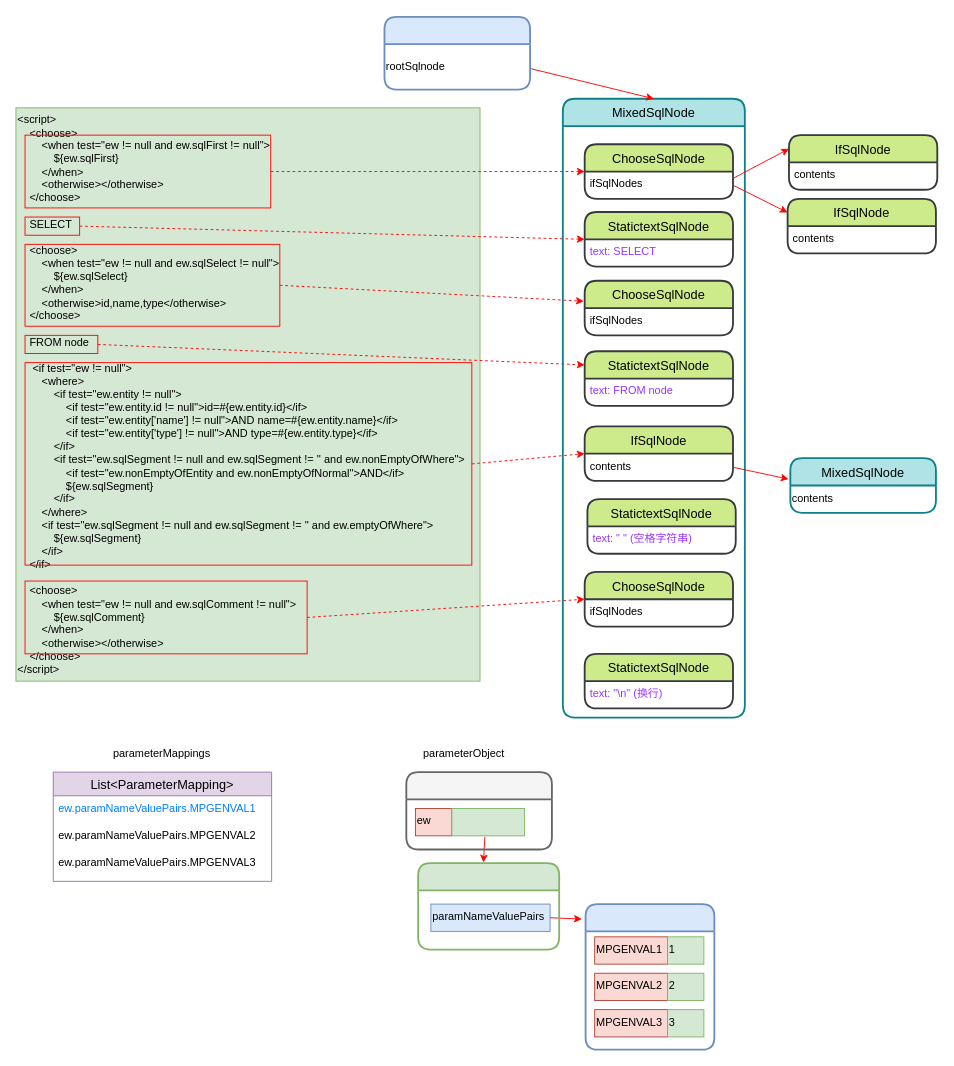
Image size: 954x1066. Some labels were removed from this diagram. The shapes that lost their labels are listed below. From the top down, each one's box as (x1, y1, x2, y2) in pixels, then its label:
(383, 15, 531, 90): DynamicSqlSource
(405, 771, 552, 850): ParamMap
(417, 862, 560, 950): LambdaQueryWrapper
(584, 903, 715, 1050): HashMap
